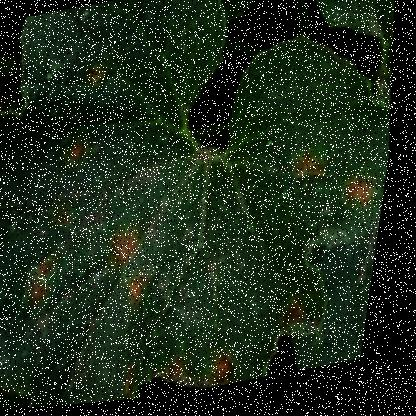AlternariaBrassicicola: (335, 155, 395, 238), (207, 325, 267, 392), (107, 208, 160, 275), (289, 143, 342, 206), (282, 283, 331, 338), (79, 49, 126, 102), (58, 120, 103, 172), (30, 274, 63, 313)
